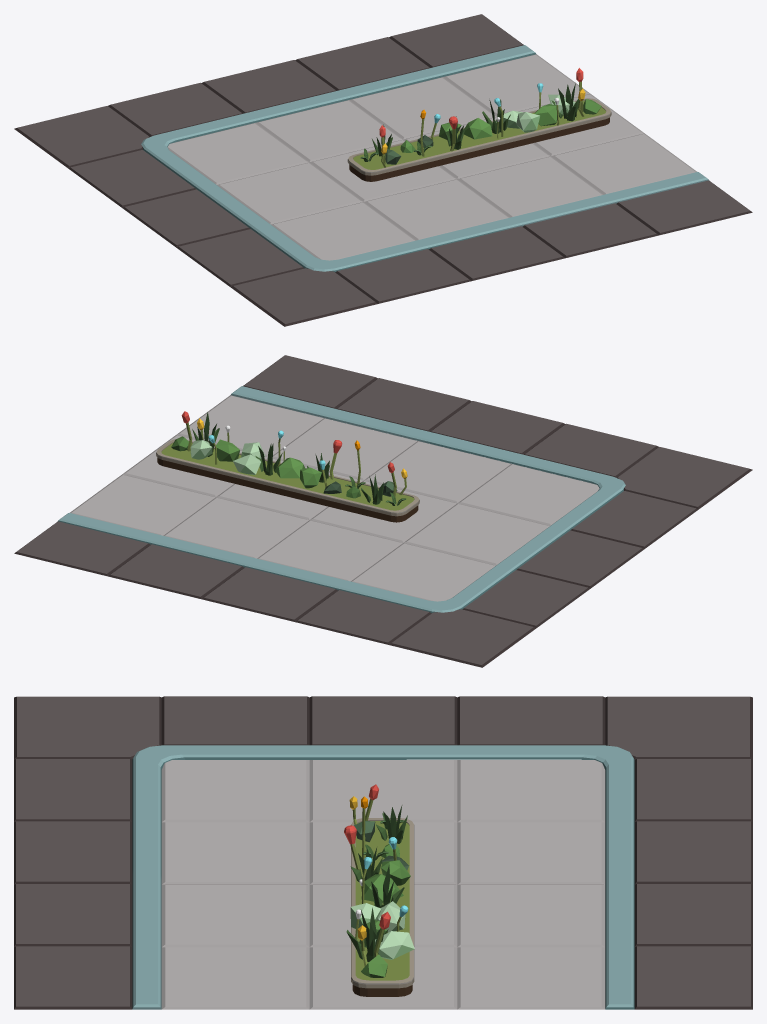
Rendered from DeadEnd_A.glb.
The picture shows the model from 3 angles, top to bottom: view 1: azimuth 30°, elevation 25°; view 2: azimuth 150°, elevation 25°; view 3: azimuth 270°, elevation 25°; orthographic projection. The views are drawn at different scales.
Parts seen in each view (by area): view 1: DeadEnd_A, Cube.296; view 2: DeadEnd_A, Cube.296; view 3: DeadEnd_A, Cube.296, Tree_03.1566, Grass_03.674, Grass_03.677, Tree_03.1569.
Part boxes in pixels (<box>): DeadEnd_A: <box>14,14,752,326</box>; Cube.296: <box>347,98,611,181</box>; DeadEnd_A: <box>14,355,752,667</box>; Cube.296: <box>156,439,419,522</box>; DeadEnd_A: <box>14,696,752,1009</box>; Cube.296: <box>351,818,414,996</box>; Tree_03.1566: <box>375,931,414,959</box>; Grass_03.674: <box>346,907,388,961</box>; Grass_03.677: <box>376,805,407,843</box>; Tree_03.1569: <box>361,874,403,903</box>.
Size of what is drawn, in the model's own units: 16 by 1.95 by 16.
1 material, 1 textured.
